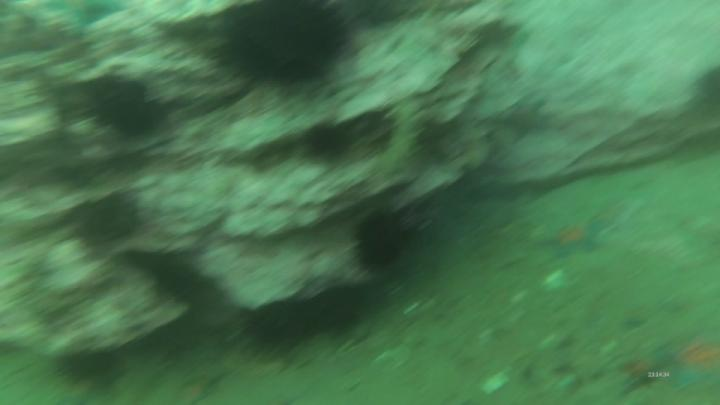echinus: (216, 1, 354, 93), (86, 74, 164, 145), (351, 206, 413, 274), (248, 297, 303, 361), (306, 282, 365, 341), (53, 348, 123, 390), (306, 119, 352, 165)
holothurian: (379, 96, 430, 184)
starfish: (658, 327, 720, 397), (536, 211, 608, 265), (181, 370, 226, 405)
